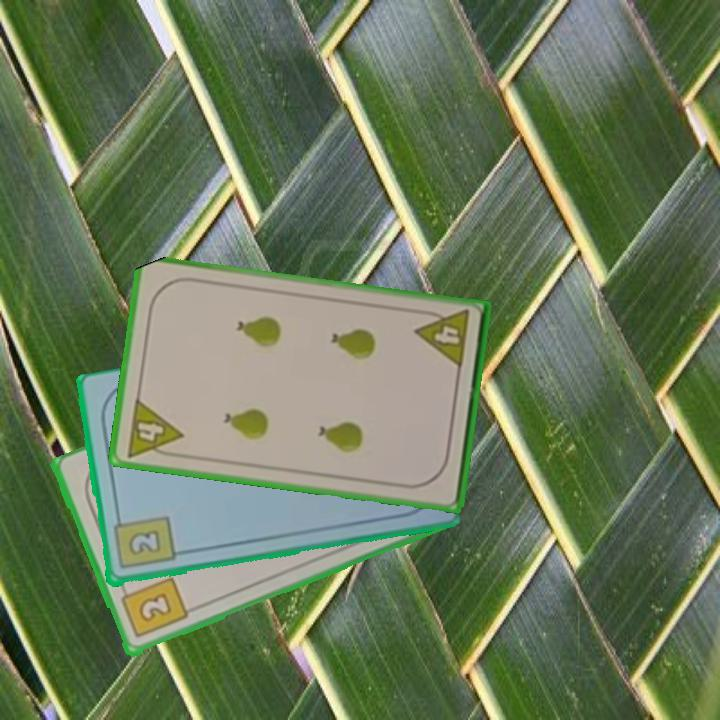2b: (116, 574, 190, 642), (109, 511, 177, 573)
4p: (122, 395, 186, 461), (412, 306, 473, 372)
